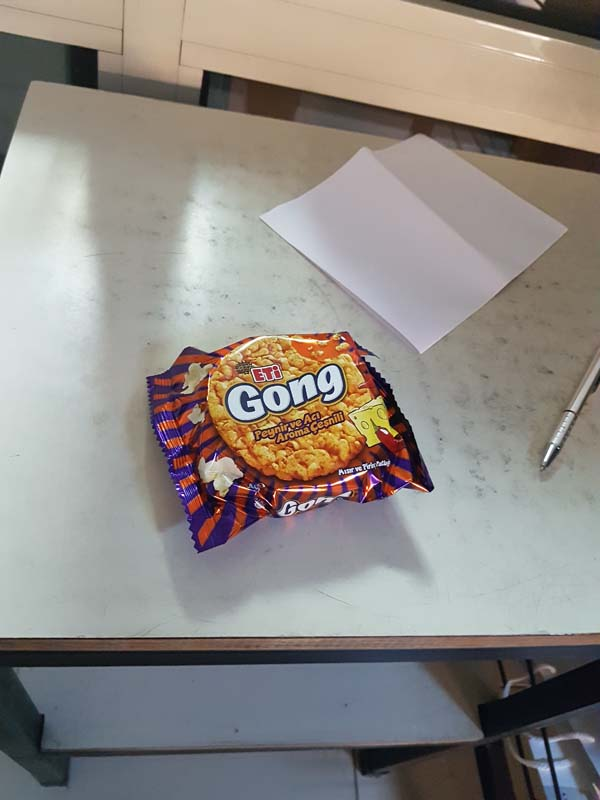etigong: (148, 326, 445, 547)
